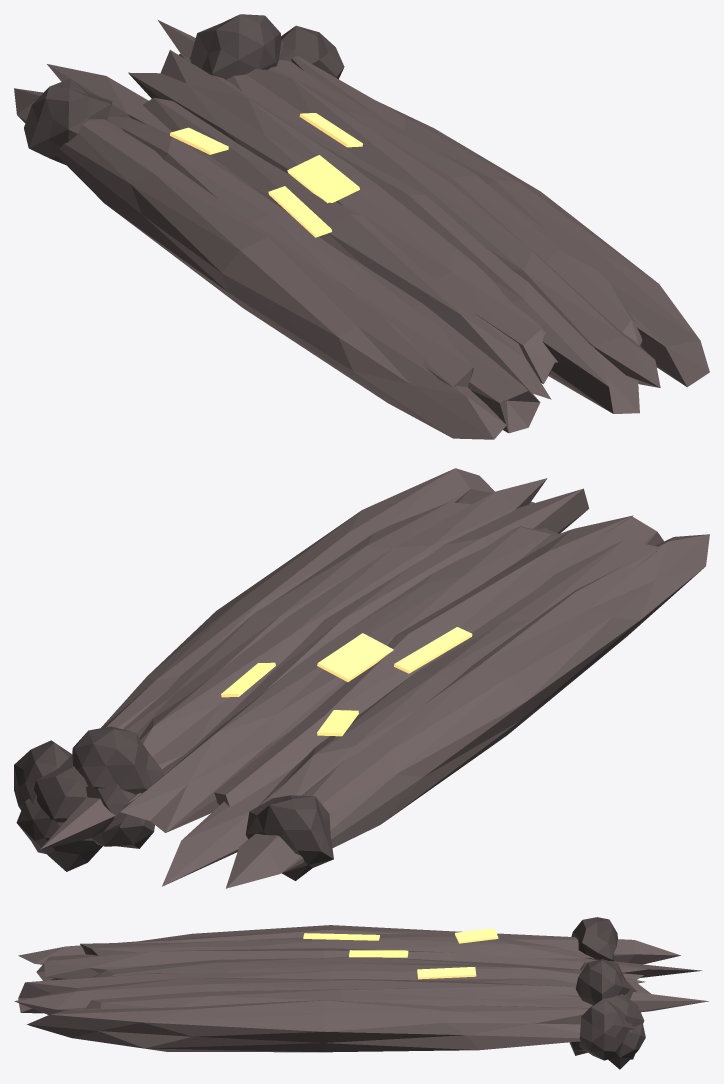
File: cave_rock_wall.glb
3 views of the same model, one above another, from view 1: azimuth 30°, elevation 25°; view 2: azimuth 150°, elevation 25°; view 3: azimuth 270°, elevation 25° (orthographic). The views are drawn at different scales.
Visible parts, largest first — view 1: Slab0, Slab4, Slab6, Slab8, Slab3, Slab1, Slab5, Slab7, Slab2, Base5, Base0, Base3 (+4 smaller); view 2: Slab0, Slab4, Slab6, Slab3, Slab1, Slab8, Slab5, Slab7, Slab2, Base5, Base0, Base1 (+7 smaller); view 3: Slab8, Slab6, Slab7, Slab1, Slab4, Slab3, Slab0, Slab5, Base3, Base5, Slab2, Base0 (+6 smaller).
Part boxes in pixels (<box>): Slab0: <box>14,88,506,439</box>; Slab4: <box>128,50,557,383</box>; Slab6: <box>158,20,660,387</box>; Slab8: <box>291,56,709,387</box>; Slab3: <box>143,97,551,399</box>; Slab1: <box>107,116,473,387</box>; Slab5: <box>179,53,639,413</box>; Slab7: <box>267,59,642,346</box>; Slab2: <box>47,64,540,433</box>; Base5: <box>190,14,281,79</box>; Base0: <box>24,78,112,164</box>; Base3: <box>279,25,344,79</box>; Slab0: <box>226,534,709,888</box>; Slab4: <box>120,526,558,832</box>; Slab6: <box>40,478,547,849</box>; Slab3: <box>214,515,633,807</box>; Slab1: <box>266,540,660,801</box>; Slab8: <box>101,468,494,729</box>; Slab5: <box>104,488,589,831</box>; Slab7: <box>123,502,471,737</box>; Slab2: <box>162,516,663,886</box>; Base5: <box>72,726,164,794</box>; Base0: <box>245,795,333,880</box>; Base1: <box>16,798,102,871</box>; Slab8: <box>27,1000,589,1052</box>; Slab6: <box>14,978,708,1014</box>; Slab7: <box>84,988,592,1009</box>; Slab1: <box>80,934,594,959</box>; Slab4: <box>92,956,645,983</box>; Slab3: <box>44,948,586,979</box>; Slab0: <box>18,925,680,964</box>; Slab5: <box>18,971,650,1013</box>; Base3: <box>579,998,633,1060</box>; Base5: <box>575,959,630,1004</box>; Slab2: <box>36,952,701,980</box>; Base0: <box>571,917,617,961</box>.
Bounding box in the file's own units: 12.99 × 5.17 × 36.01.
